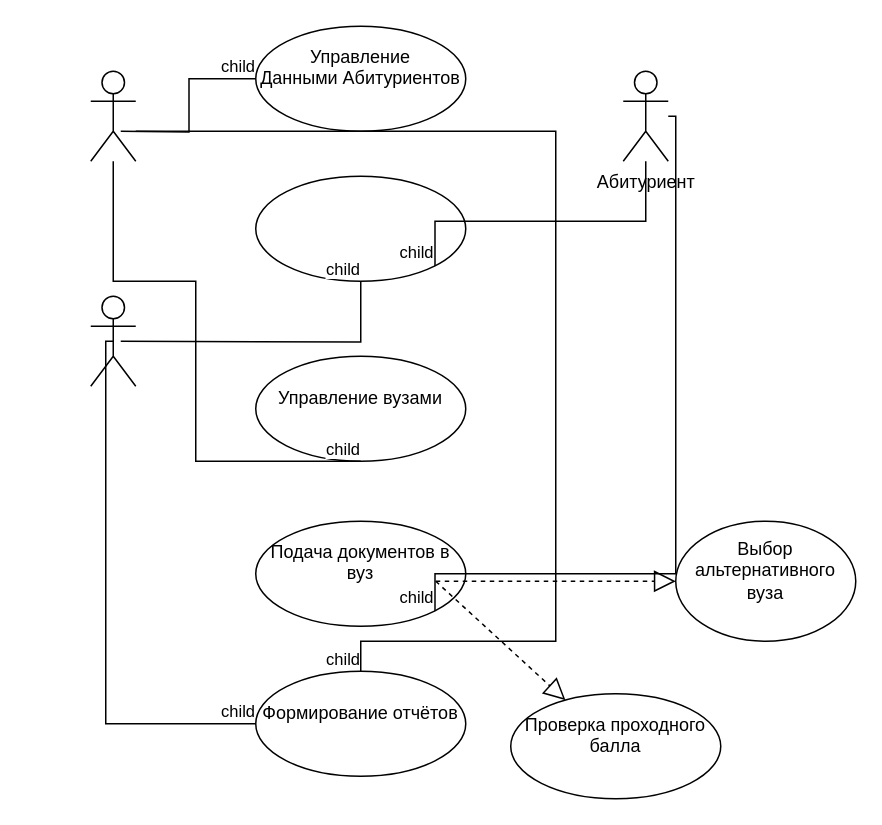
This 882x825 diagram has some shape labels left out. The shapes that lost their labels are listed below. From the top down, each one's centre as x and y in pixels, then its label:
the point at 112,115: Администратор
the point at 360,228: Просмотр статистики
the point at 112,340: Приёмная комиммия
